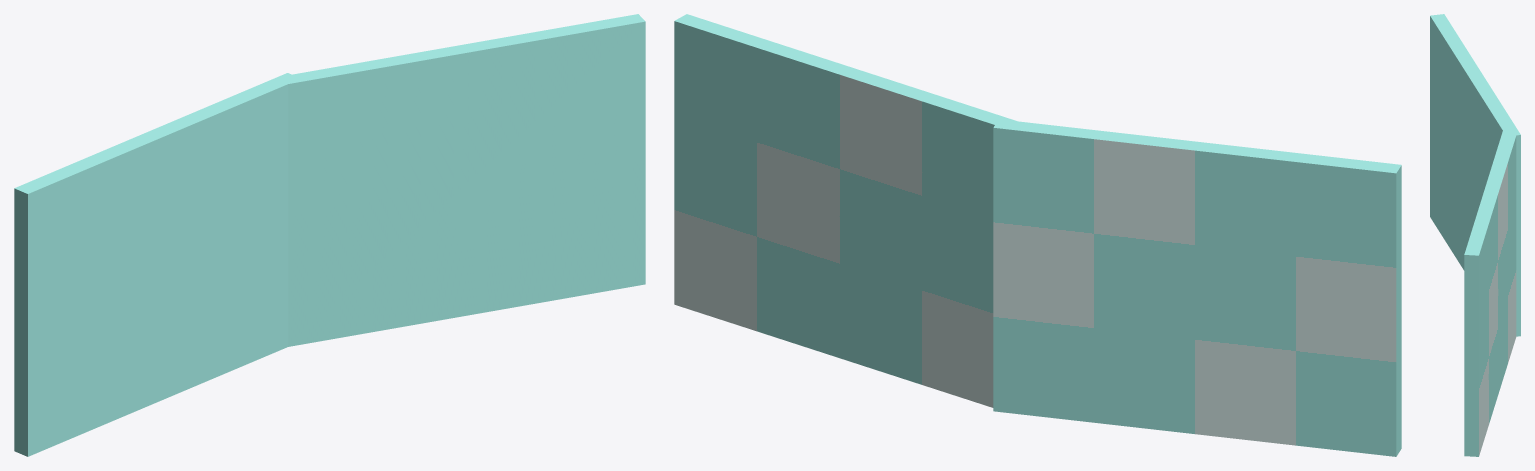
Rendered from visor.obj.
3 renders of one model, left to right at view 1: azimuth 30°, elevation 25°; view 2: azimuth 150°, elevation 25°; view 3: azimuth 270°, elevation 25°, orthographic. The views are drawn at different scales.
Visible parts, largest first — view 1: cube; view 2: cube; view 3: cube.
Boxes of the visible parts, box(x1,y1,x2,y2) form: cube: box(14, 14, 645, 456); cube: box(674, 14, 1401, 456); cube: box(1430, 14, 1520, 456).
Size of the model in its own units: 0.4828 by 0.1875 by 0.0768.
1 material, 1 textured.
